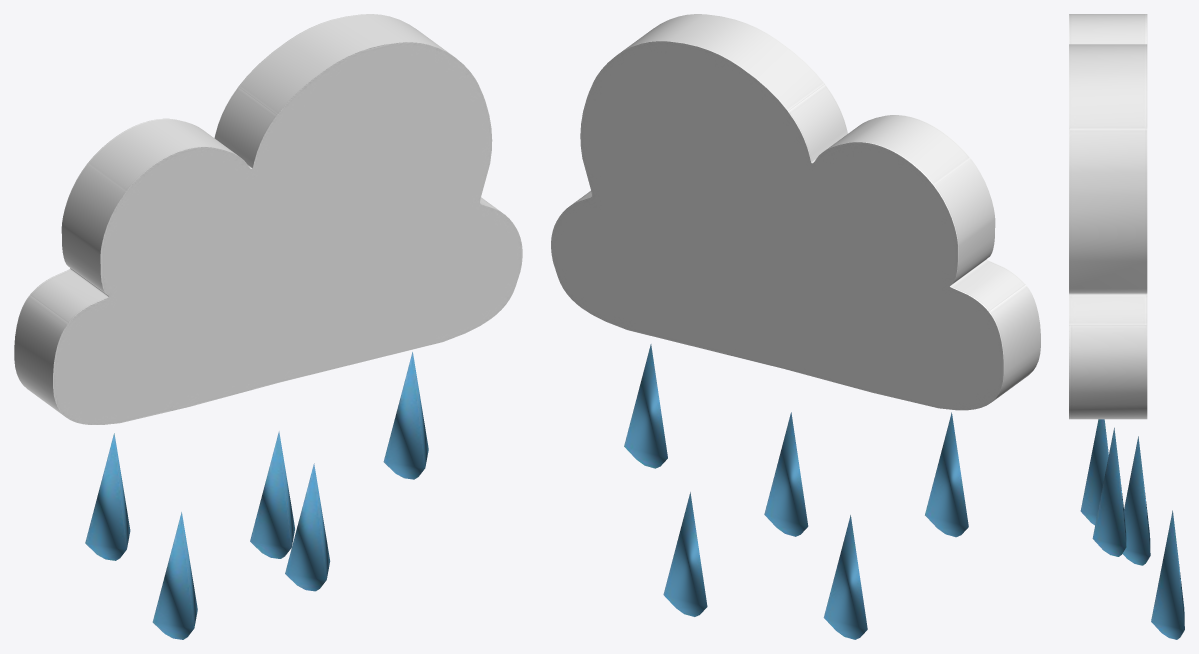
File: rain.glb
3 renders of one model, left to right at view 1: azimuth 30°, elevation 25°; view 2: azimuth 150°, elevation 25°; view 3: azimuth 270°, elevation 25°, orthographic. The views are drawn at different scales.
Visible parts, largest first — view 1: rain; view 2: rain; view 3: rain.
Part boxes in pixels (<box>): rain: <box>14,14,522,639</box>; rain: <box>551,14,1040,639</box>; rain: <box>1069,14,1184,639</box>.
Size of the model in its own units: 22.86 by 26.89 by 4.82.
1 material, 1 textured.
